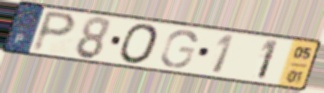1: (209, 33, 237, 76), (256, 38, 280, 83)
8: (74, 15, 112, 61)
G: (158, 29, 199, 69)
O: (118, 22, 162, 66)
P: (29, 8, 79, 54)
